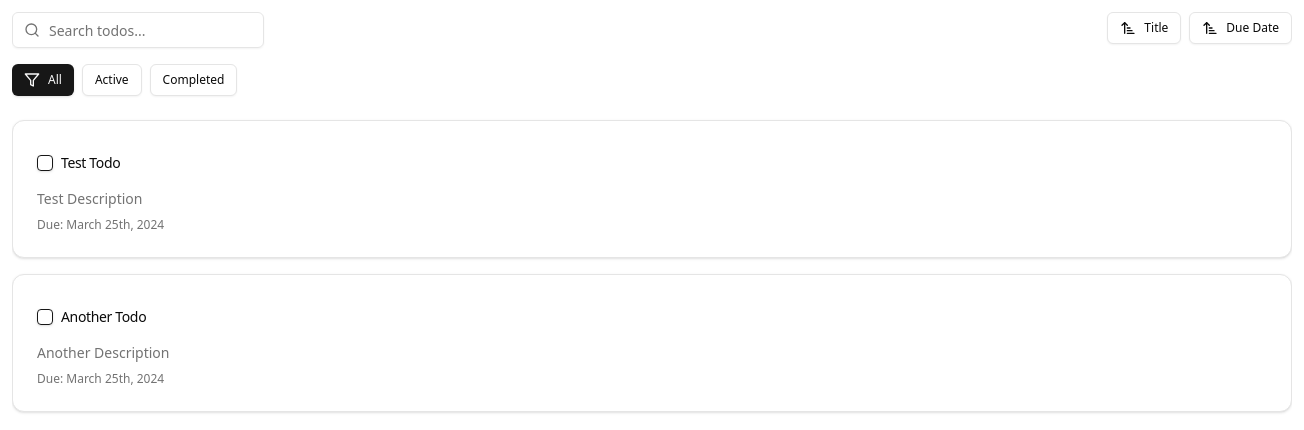
Test: TodoList › handles search functionality
Type "Test" into the field with placeholder "Search todos...". click: (138, 30)
box: [12,12,264,48]
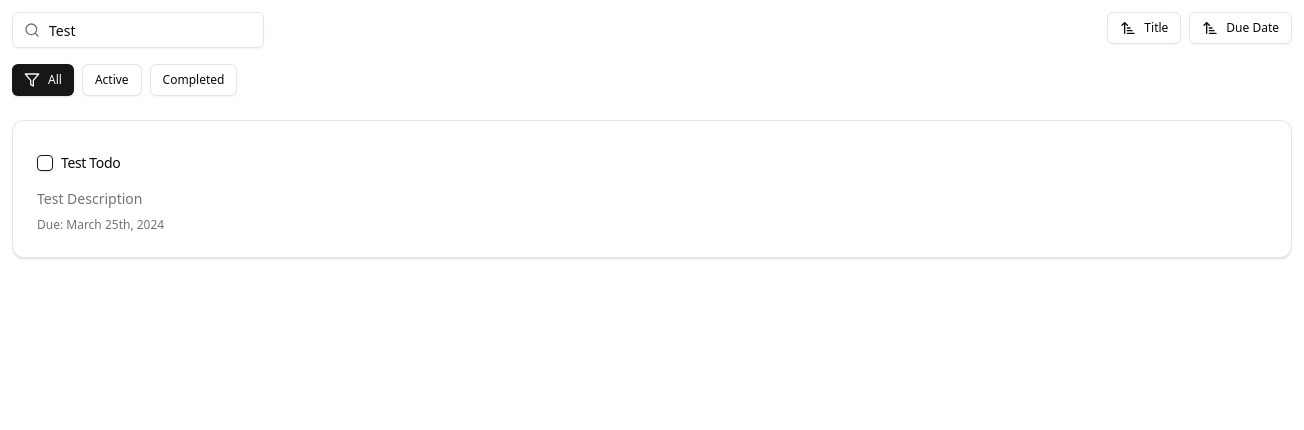
Expected: the text "Test Todo" is shown, [61,153,120,173]
Result: the text "Another Todo" is gone
